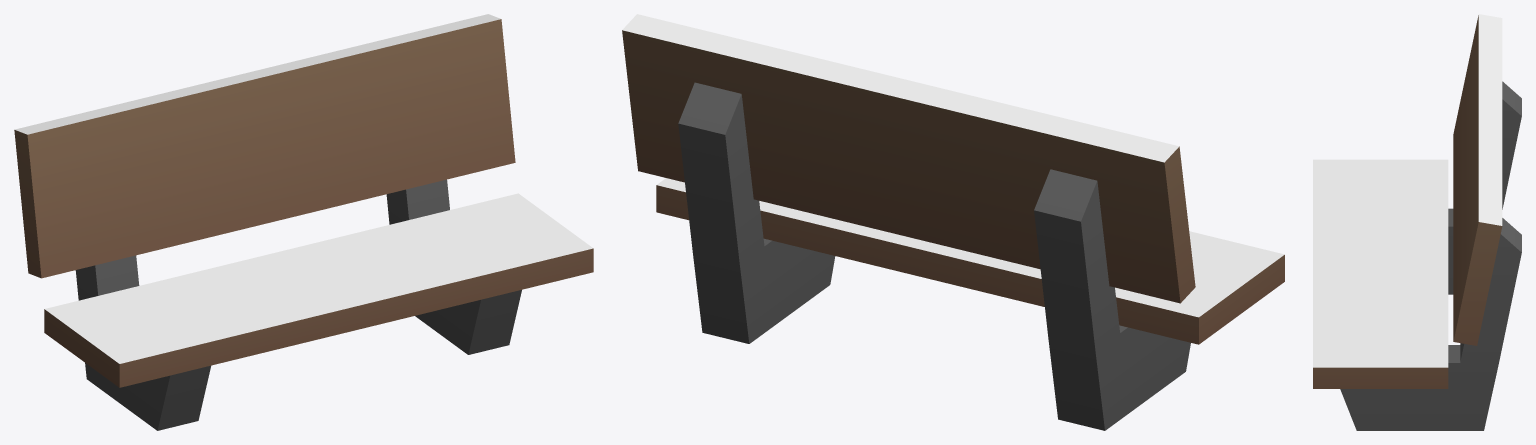
File: banco.fbx
3 views of the same model, side by side, from view 1: azimuth 30°, elevation 25°; view 2: azimuth 150°, elevation 25°; view 3: azimuth 270°, elevation 25° (orthographic). The views are drawn at different scales.
Parts seen in each view (by area): view 1: pCube30; view 2: pCube30; view 3: pCube30.
Boxes of the visible parts, bbox=[...] form: pCube30: bbox=[14, 14, 593, 430]; pCube30: bbox=[622, 14, 1284, 430]; pCube30: bbox=[1313, 14, 1521, 430].
Size of the model in its own units: 1 by 0.5276 by 0.4243.
